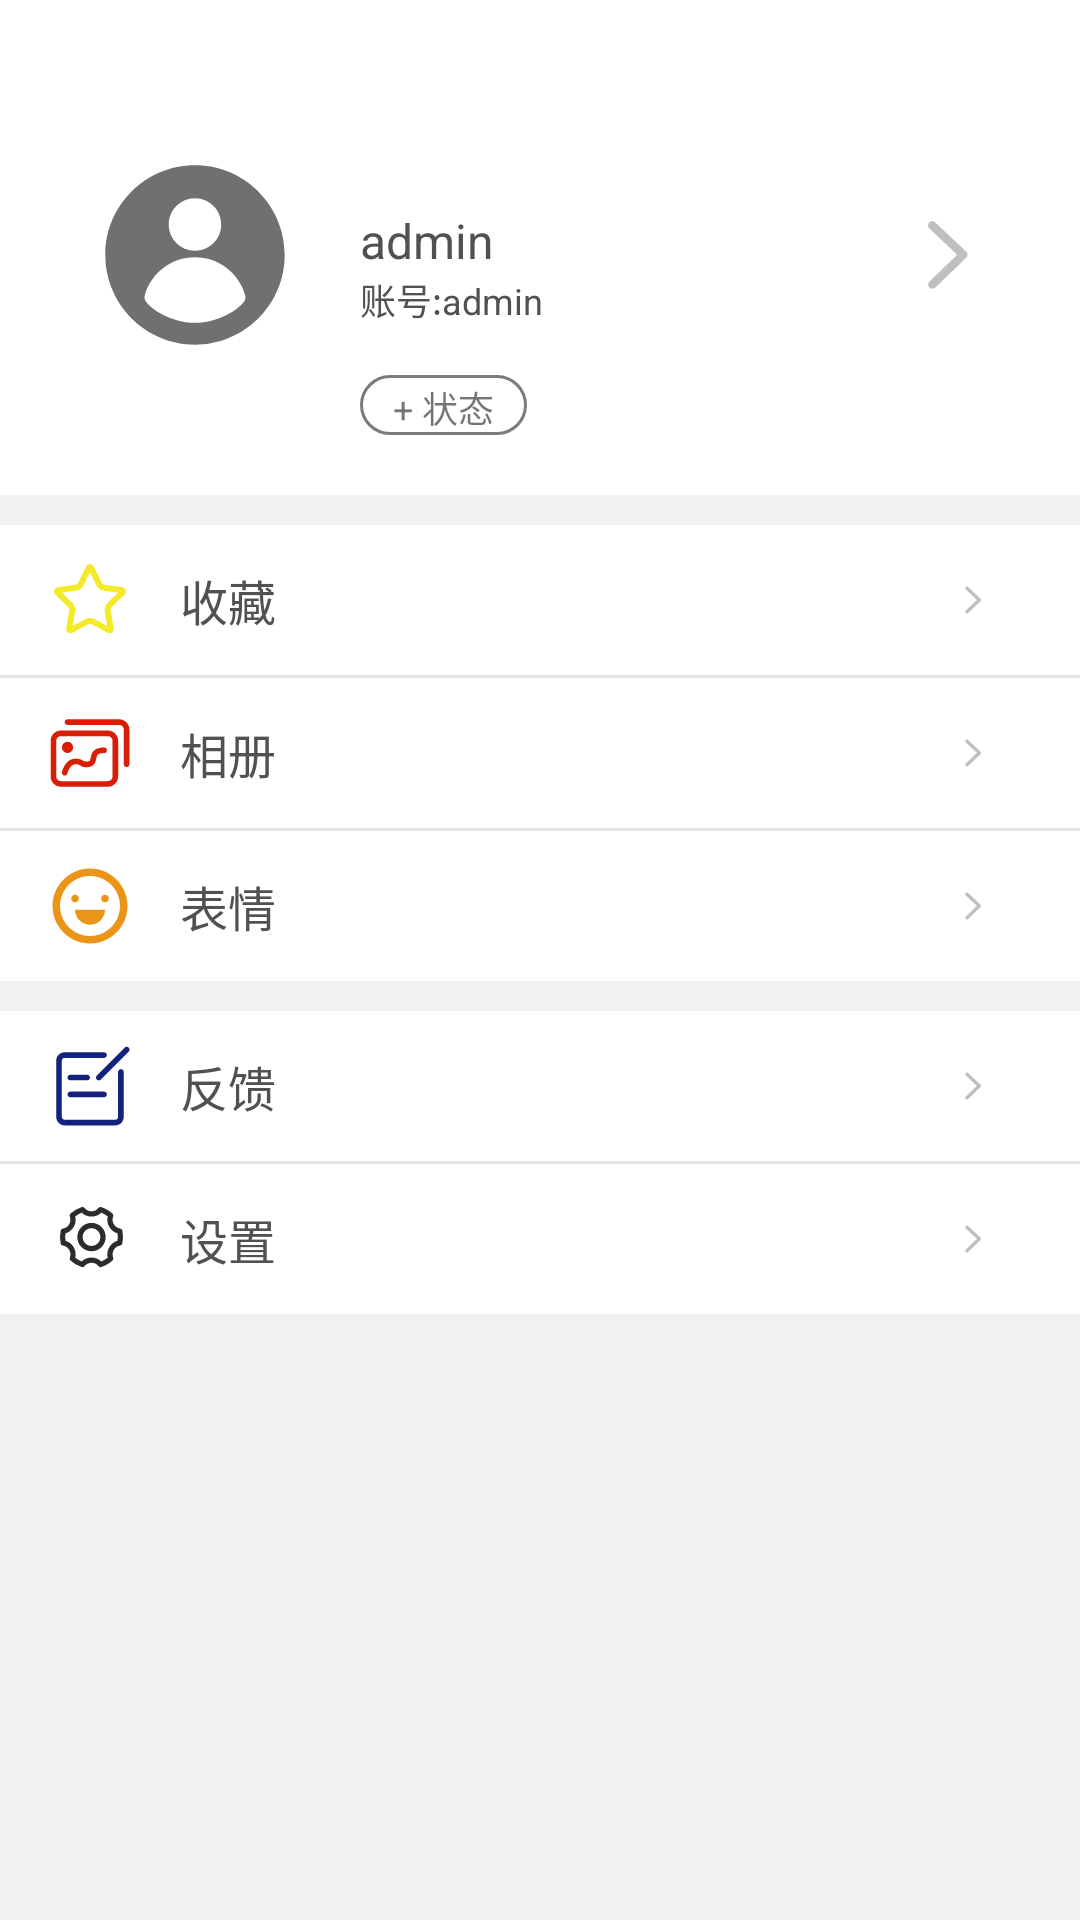

Where to tap for icons on this 1080×1920 app screen, as (x=x, y=y):
album: (x=90, y=753)
collection: (x=90, y=599)
emoji: (x=90, y=906)
feedback: (x=93, y=1086)
right: (x=948, y=255), (x=973, y=600), (x=973, y=753), (x=973, y=906), (x=973, y=1086), (x=973, y=1239)
setting: (x=91, y=1237)
user filling: (x=195, y=255)
